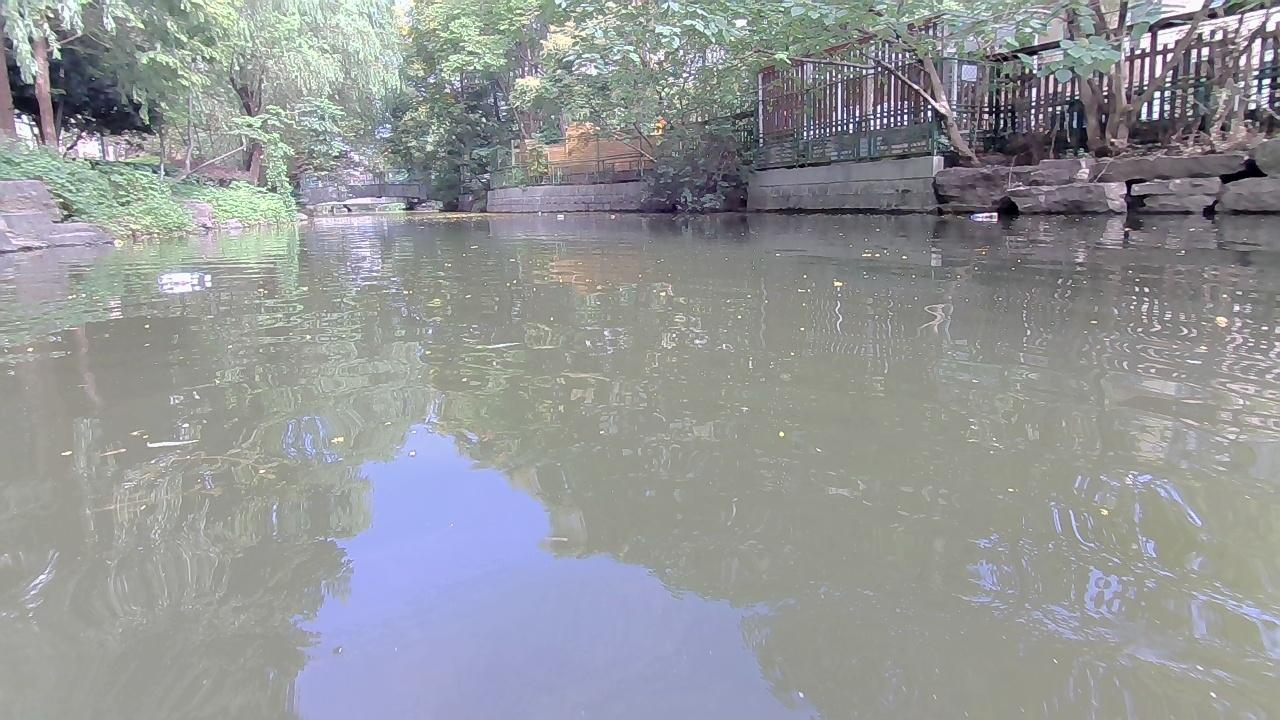bottle: (155, 268, 214, 289), (968, 209, 1001, 223), (109, 236, 123, 245), (555, 213, 562, 221)
